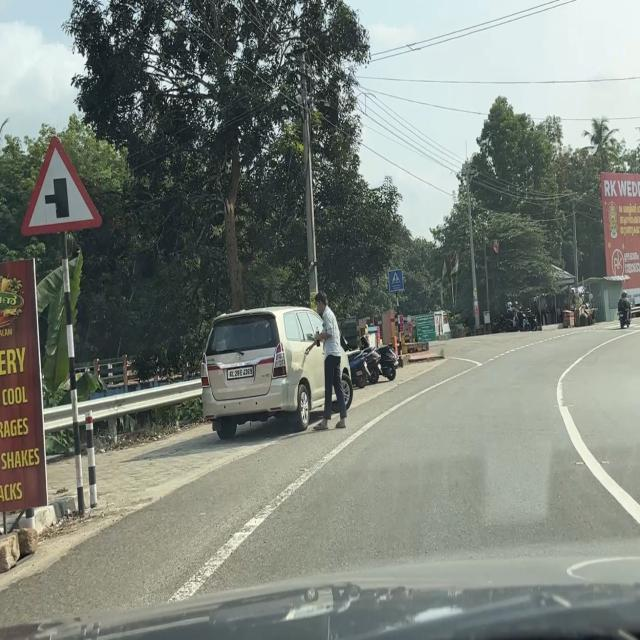GENERAL: (416, 314, 436, 342)
PEDESTRIAN_CROSSING: (388, 268, 404, 293)
SIDE_ROAD_LEFT: (21, 135, 102, 237)
